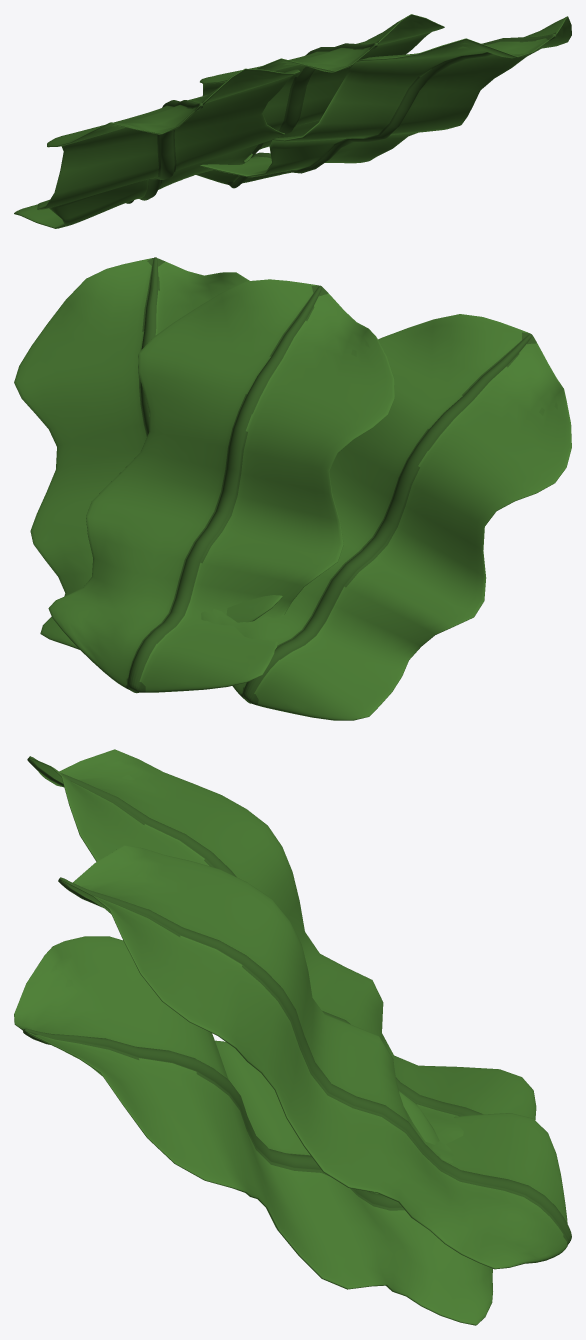
File: seaweed.fbx
The picture shows the model from 3 angles, top to bottom: view 1: azimuth 30°, elevation 25°; view 2: azimuth 150°, elevation 25°; view 3: azimuth 270°, elevation 25°; orthographic projection. The views are drawn at different scales.
Visible parts, largest first — view 1: apple:apple:pCylinder1; view 2: apple:apple:pCylinder1; view 3: apple:apple:pCylinder1.
Boxes of the visible parts, <box> form: apple:apple:pCylinder1: <box>14,14,571,228</box>; apple:apple:pCylinder1: <box>14,257,571,720</box>; apple:apple:pCylinder1: <box>14,749,571,1325</box>.
Size of the model in its own units: 5.27 by 2.58 by 3.45.
